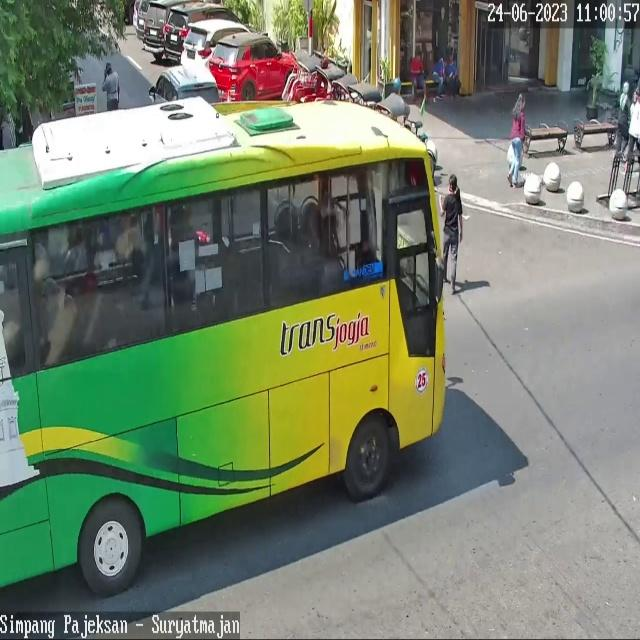car: (0, 95, 446, 596)
motorcycle: (206, 33, 300, 112), (163, 4, 246, 64), (181, 21, 252, 65), (151, 62, 221, 104), (143, 0, 169, 53)
